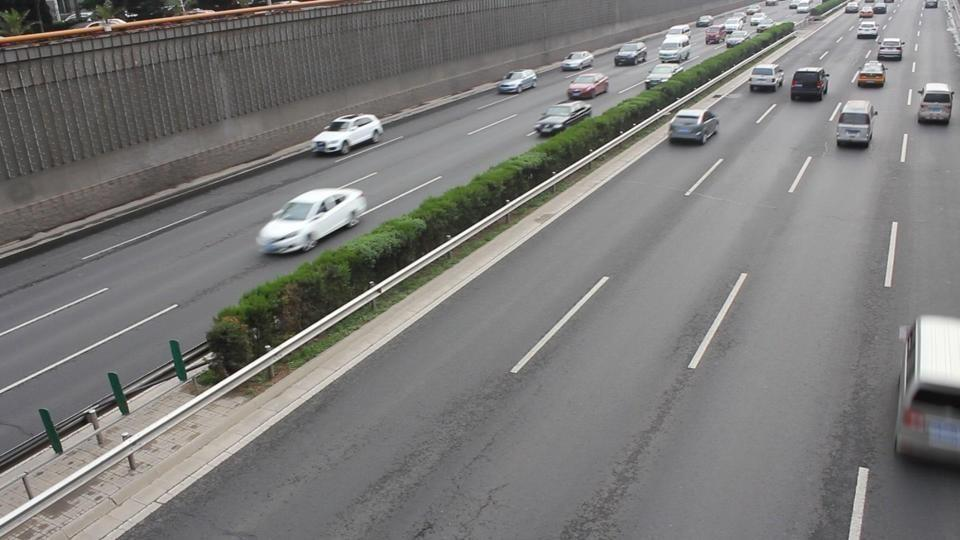car: (256, 187, 369, 255), (312, 114, 384, 156), (830, 99, 877, 149), (531, 101, 593, 138), (668, 109, 720, 146), (916, 83, 953, 125), (789, 67, 830, 102), (567, 71, 610, 99), (658, 29, 691, 63), (497, 69, 538, 94), (750, 64, 783, 92), (853, 62, 887, 88), (614, 42, 648, 67), (560, 50, 595, 73), (877, 37, 904, 61), (855, 20, 879, 39), (924, 0, 938, 10)
